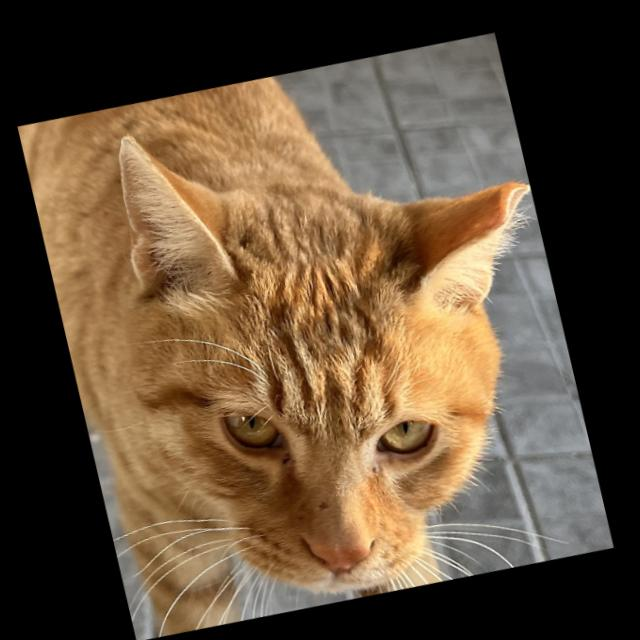animals: (57, 24, 620, 640)
